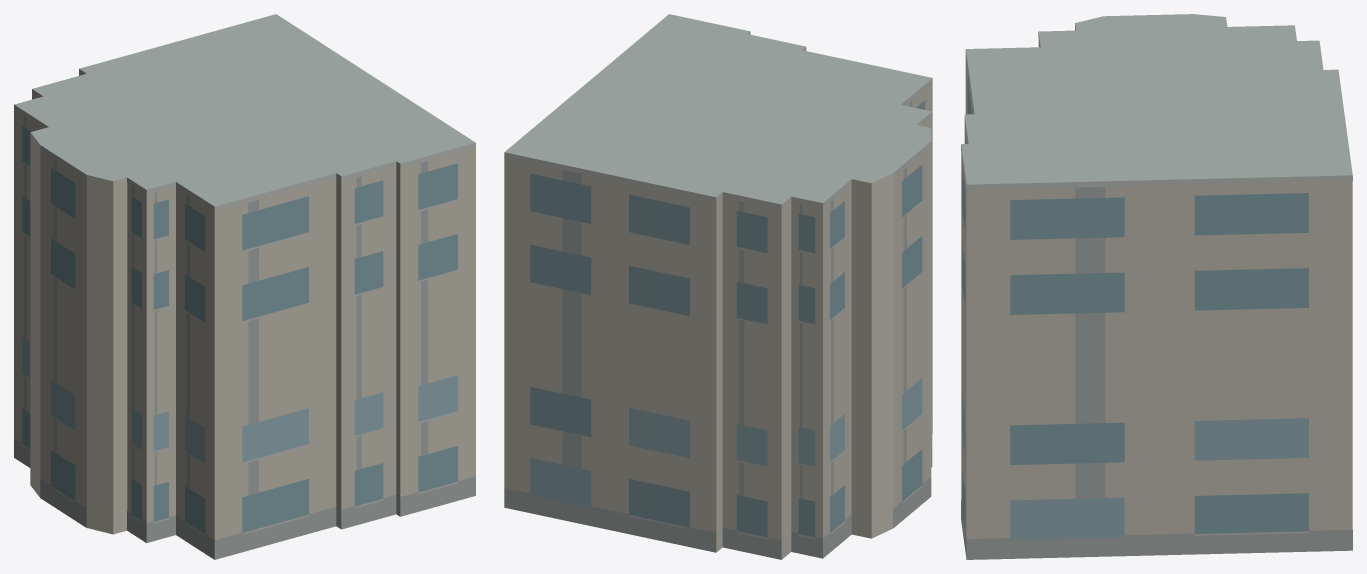
Rendered from survey-upis-32875394.glb.
The picture shows the model from 3 angles, left to right: view 1: azimuth 30°, elevation 25°; view 2: azimuth 150°, elevation 25°; view 3: azimuth 270°, elevation 25°; orthographic projection. The views are drawn at different scales.
Visible parts, largest first — view 1: survey-upis-32875394.tmp; view 2: survey-upis-32875394.tmp; view 3: survey-upis-32875394.tmp.
Boxes of the visible parts, box(x1,y1,x2,y2) form: survey-upis-32875394.tmp: box(14, 14, 475, 559); survey-upis-32875394.tmp: box(504, 14, 932, 559); survey-upis-32875394.tmp: box(961, 14, 1352, 559).
Size of the model in its own units: 16.19 by 16.6 by 15.71.
